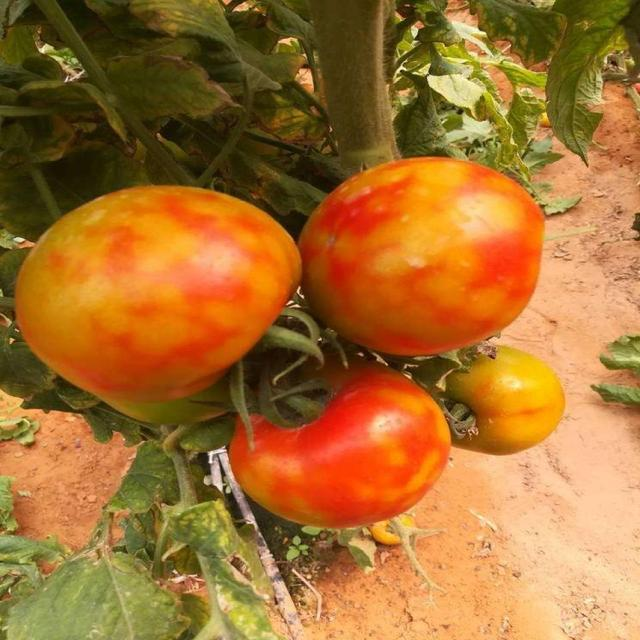Spotted wilt Virus Fruit: (21, 135, 314, 270)
